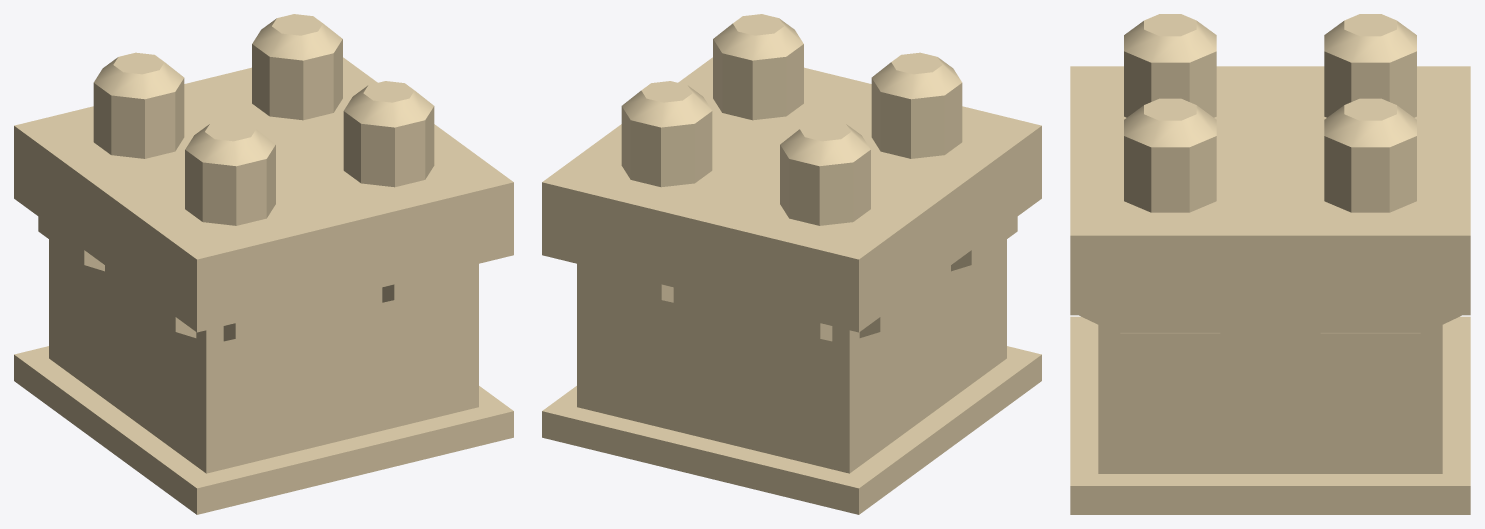
The model's file is wall_corbel.glb.
The picture shows the model from 3 angles, left to right: view 1: azimuth 30°, elevation 25°; view 2: azimuth 150°, elevation 25°; view 3: azimuth 270°, elevation 25°; orthographic projection. The views are drawn at different scales.
Visible parts, largest first — view 1: wall; view 2: wall; view 3: wall.
Boxes of the visible parts, x1,y1,x2,y2 form: wall: (14, 14, 513, 514); wall: (542, 14, 1041, 514); wall: (1070, 14, 1470, 514).
Size of the model in its own units: 1 by 1 by 1.
